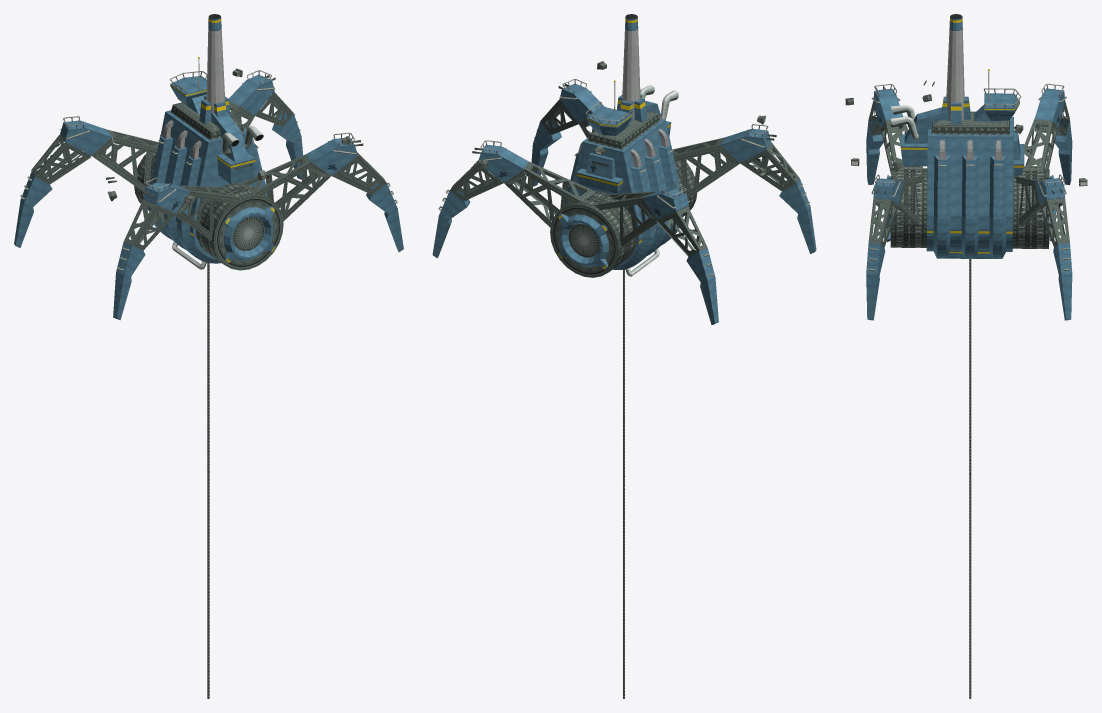
File: C1SMXMININGSPIDER_H.bgf.obj
The picture shows the model from 3 angles, left to right: view 1: azimuth 30°, elevation 25°; view 2: azimuth 150°, elevation 25°; view 3: azimuth 270°, elevation 25°; orthographic projection.
Parts seen in each view (by area): view 1: FRAG01, FRAG100, FRAG11, FRAG07, FRAG05, FRAG13, FRAG20, FRAG09, FRAG14, FRAG08, FRAG10, FRAG15 (+7 smaller); view 2: FRAG01, FRAG21, FRAG05, FRAG13, FRAG06, FRAG07, FRAG20, FRAG08, FRAG18, FRAG09, FRAG11, FRAG10 (+8 smaller); view 3: FRAG01, FRAG07, FRAG20, FRAG08, FRAG09, FRAG10, FRAG13, FRAG05, FRAG17, FRAG15, ROPE01, FRAG14 (+6 smaller).
Part boxes in pixels (box(x1,y1,x2,y2)): FRAG01: box(134, 94, 283, 270); FRAG100: box(223, 206, 275, 263); FRAG11: box(253, 137, 357, 221); FRAG07: box(60, 120, 158, 192); FRAG05: box(14, 143, 91, 247); FRAG13: box(113, 211, 175, 320); FRAG20: box(206, 14, 225, 121); FRAG09: box(340, 171, 403, 251); FRAG14: box(239, 154, 321, 214); FRAG08: box(262, 92, 302, 179); FRAG10: box(230, 74, 274, 129); FRAG15: box(143, 182, 191, 213); FRAG01: box(550, 94, 697, 277); FRAG21: box(557, 213, 608, 269); FRAG05: box(656, 208, 718, 324); FRAG13: box(741, 159, 816, 253); FRAG06: box(478, 146, 551, 227); FRAG07: box(594, 188, 688, 237); FRAG20: box(622, 14, 640, 120); FRAG08: box(432, 162, 481, 258); FRAG18: box(673, 137, 752, 185); FRAG09: box(531, 117, 578, 186); FRAG11: box(559, 84, 604, 127); FRAG10: box(481, 144, 593, 214); FRAG01: box(890, 96, 1049, 258); FRAG07: box(1025, 88, 1064, 170); FRAG20: box(946, 14, 964, 121); FRAG08: box(1047, 198, 1072, 320); FRAG09: box(866, 206, 898, 320); FRAG10: box(1014, 176, 1064, 225); FRAG13: box(866, 115, 898, 184); FRAG05: box(1047, 109, 1072, 185); FRAG17: box(984, 93, 1019, 120); FRAG15: box(873, 88, 903, 132); ROPE01: box(969, 474, 971, 698); FRAG14: box(888, 176, 923, 224).
Size of the model in its own units: 66.76 by 151 by 48.75.
103 materials, 103 textured.
